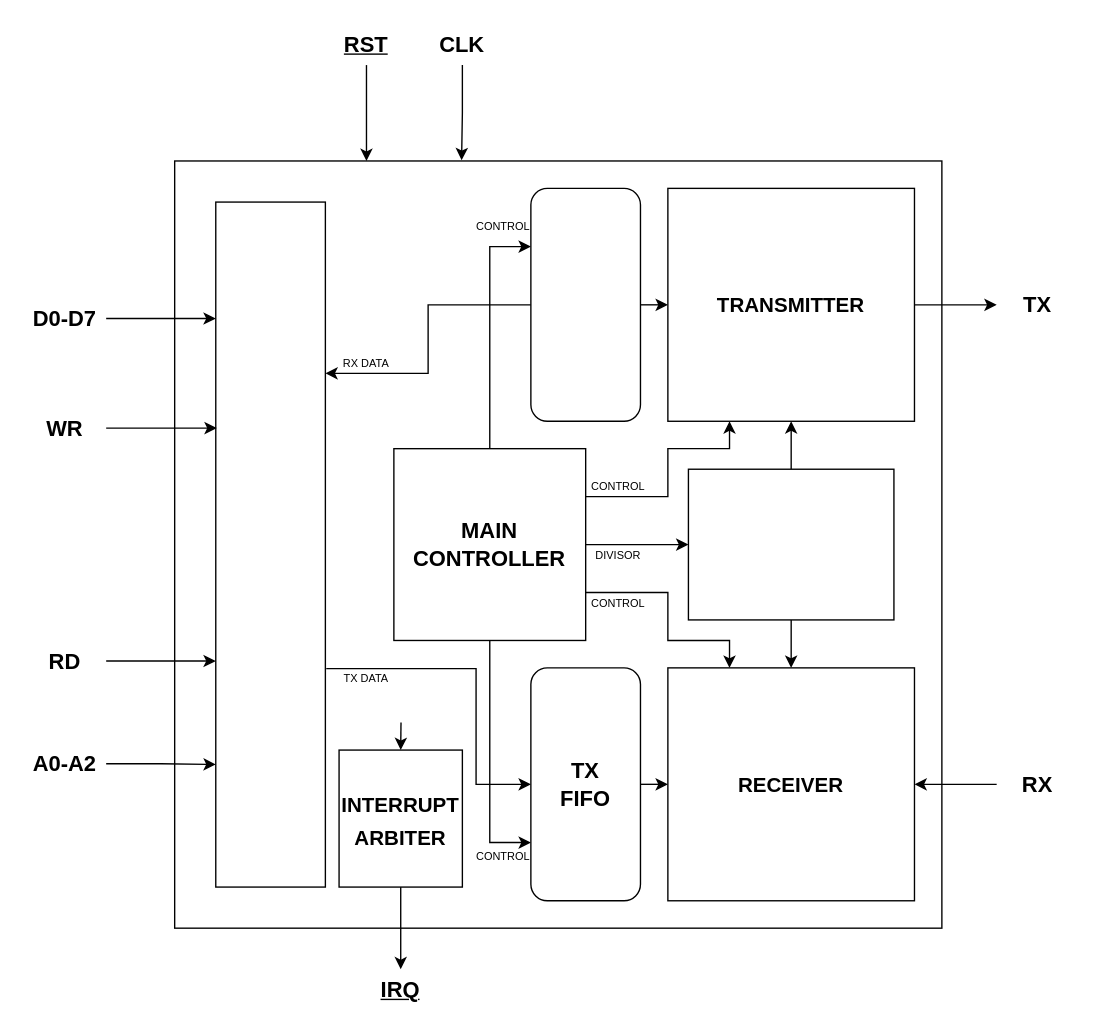
This 1101x1033 diagram has some shape labels left out. The shapes that lost their labels are listed below. From the top down, each one's centre as x and y in pixels, then its label:
point (585, 304): RX FIFO
point (269, 544): REGISTERS
point (790, 544): BAUDRATE GENERATOR
